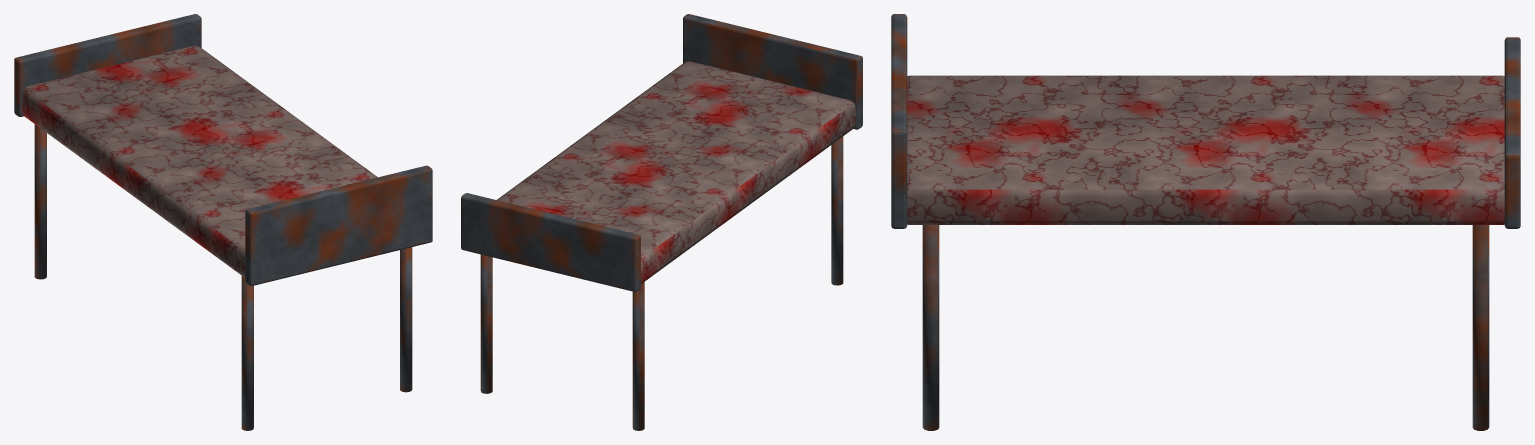
Rendered from prop_gurney.glb.
The picture shows the model from 3 angles, left to right: view 1: azimuth 30°, elevation 25°; view 2: azimuth 150°, elevation 25°; view 3: azimuth 270°, elevation 25°; orthographic projection. The views are drawn at different scales.
Visible parts, largest first — view 1: Mattress, HeadRail, FootRail, GLeg_-0.38_0.86, GLeg_-0.38_-0.86, GLeg_0.38_-0.86; view 2: Mattress, FootRail, HeadRail, GLeg_-0.38_-0.86, GLeg_-0.38_0.86, GLeg_0.38_0.86; view 3: Mattress, GLeg_0.38_0.86, GLeg_0.38_-0.86, HeadRail, FootRail.
Part boxes in pixels (box(x1,y1,x2,y2)): Mattress: box(21, 45, 377, 277); HeadRail: box(245, 165, 432, 286); FootRail: box(14, 14, 201, 116); GLeg_-0.38_0.86: box(34, 124, 46, 279); GLeg_-0.38_-0.86: box(241, 276, 253, 430); GLeg_0.38_-0.86: box(400, 247, 412, 392); Mattress: box(497, 61, 855, 283); FootRail: box(461, 193, 640, 291); HeadRail: box(683, 14, 862, 129); GLeg_-0.38_-0.86: box(831, 136, 843, 285); GLeg_-0.38_0.86: box(632, 282, 644, 430); GLeg_0.38_0.86: box(480, 254, 492, 393); Mattress: box(907, 75, 1504, 224); GLeg_0.38_0.86: box(1472, 225, 1489, 430); GLeg_0.38_-0.86: box(922, 225, 939, 430); HeadRail: box(891, 14, 907, 228); FootRail: box(1504, 37, 1520, 228).
Size of the model in its own units: 0.88 by 1.05 by 1.97.
2 materials, 2 textured.
